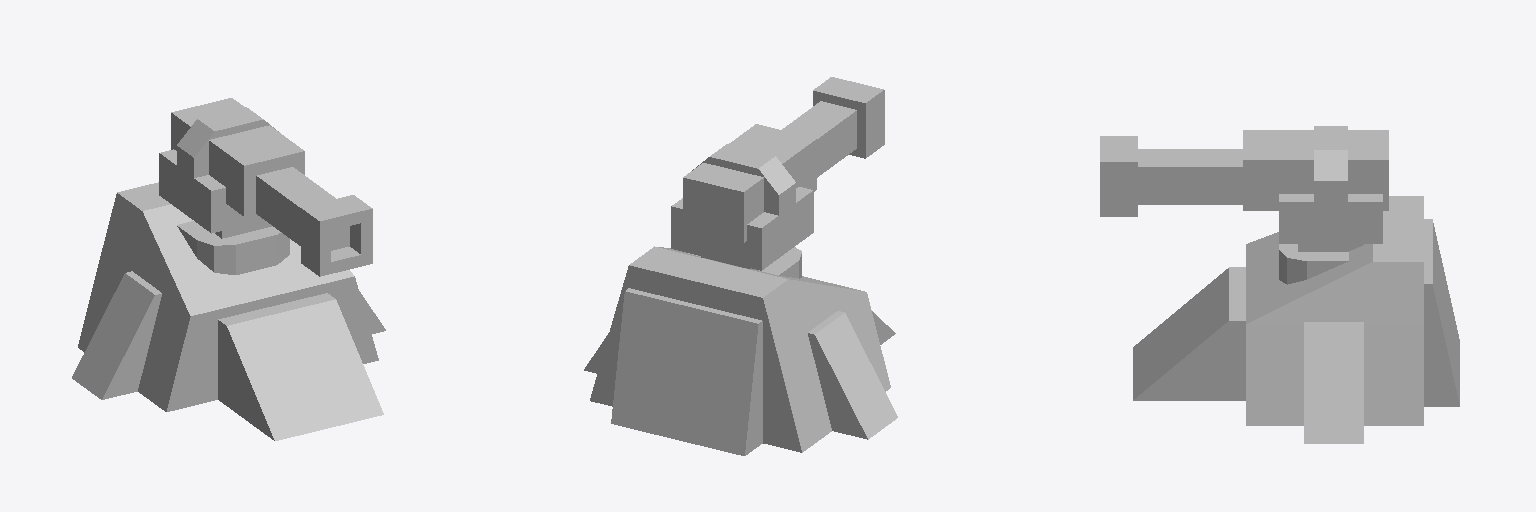
Rendered from tower1.obj.
3 views of the same model, side by side, from view 1: azimuth 30°, elevation 25°; view 2: azimuth 150°, elevation 25°; view 3: azimuth 270°, elevation 25° (orthographic).
Parts seen in each view (by area): view 1: base, barrel, tower; view 2: base, barrel, tower; view 3: base, barrel, tower.
Boxes of the visible parts, box(x1,y1,x2,y2) form: base: box(72, 182, 385, 440); barrel: box(171, 98, 372, 276); tower: box(159, 107, 289, 274); base: box(584, 246, 897, 455); barrel: box(683, 77, 884, 242); tower: box(671, 144, 813, 278); base: box(1133, 196, 1459, 443); barrel: box(1100, 130, 1388, 216); tower: box(1279, 126, 1382, 284).
Size of the model in its own units: 0.6152 by 0.4882 by 0.6742.